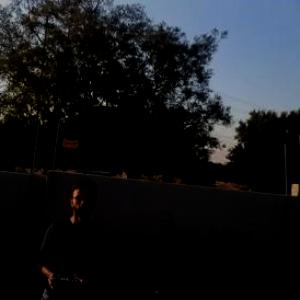follow: (28, 175, 110, 299)
